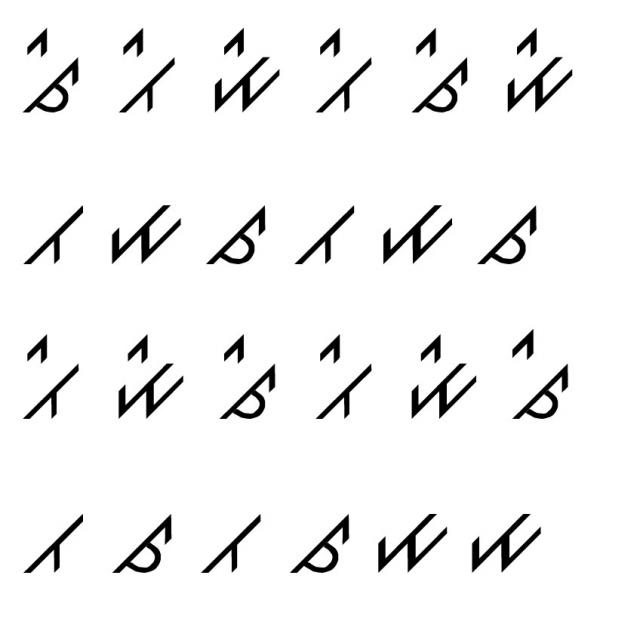ba: (17, 489, 89, 588), (16, 185, 87, 278), (200, 504, 264, 586), (289, 199, 359, 273)
bi: (16, 324, 87, 426), (309, 325, 377, 427), (115, 23, 183, 122), (309, 26, 376, 122)
ca: (200, 193, 274, 272), (472, 195, 540, 273), (108, 507, 178, 580), (292, 509, 359, 582)
ci: (498, 327, 583, 435), (16, 17, 87, 118), (402, 26, 476, 120), (214, 326, 280, 423)
ma: (458, 498, 551, 577), (371, 498, 452, 584), (372, 192, 456, 272), (105, 195, 190, 267)
mi: (99, 322, 190, 427), (398, 324, 480, 428), (496, 14, 579, 116), (209, 21, 283, 119)
